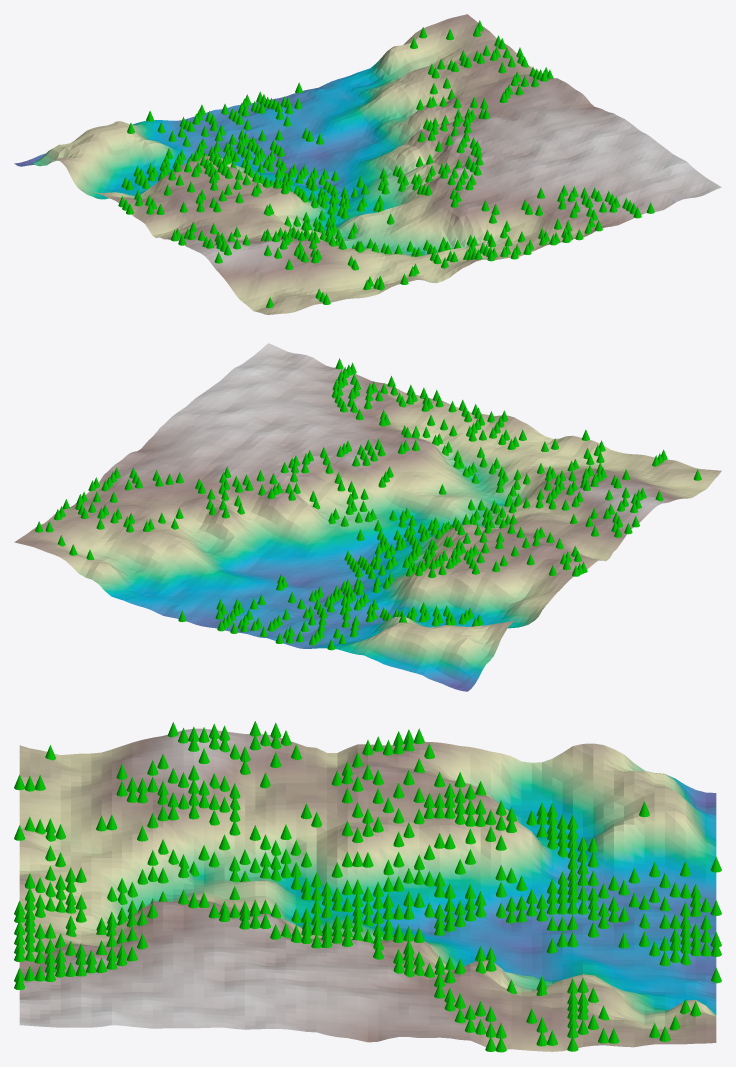
The model's file is 001306_with_tree.glb.
3 views of the same model, one above another, from view 1: azimuth 30°, elevation 25°; view 2: azimuth 150°, elevation 25°; view 3: azimuth 270°, elevation 25° (orthographic). The views are drawn at different scales.
Visible parts, largest first — view 1: terrain, trees; view 2: terrain, trees; view 3: terrain, trees.
Part boxes in pixels (x1,y1,x2,y2): terrain: (14, 14, 721, 314); trees: (118, 20, 654, 308); terrain: (14, 343, 721, 691); trees: (35, 358, 701, 650); terrain: (19, 728, 716, 1051); trees: (14, 721, 721, 1052).
Bounding box in the file's own units: 0.0192 × 0.00234 × 0.0186.
